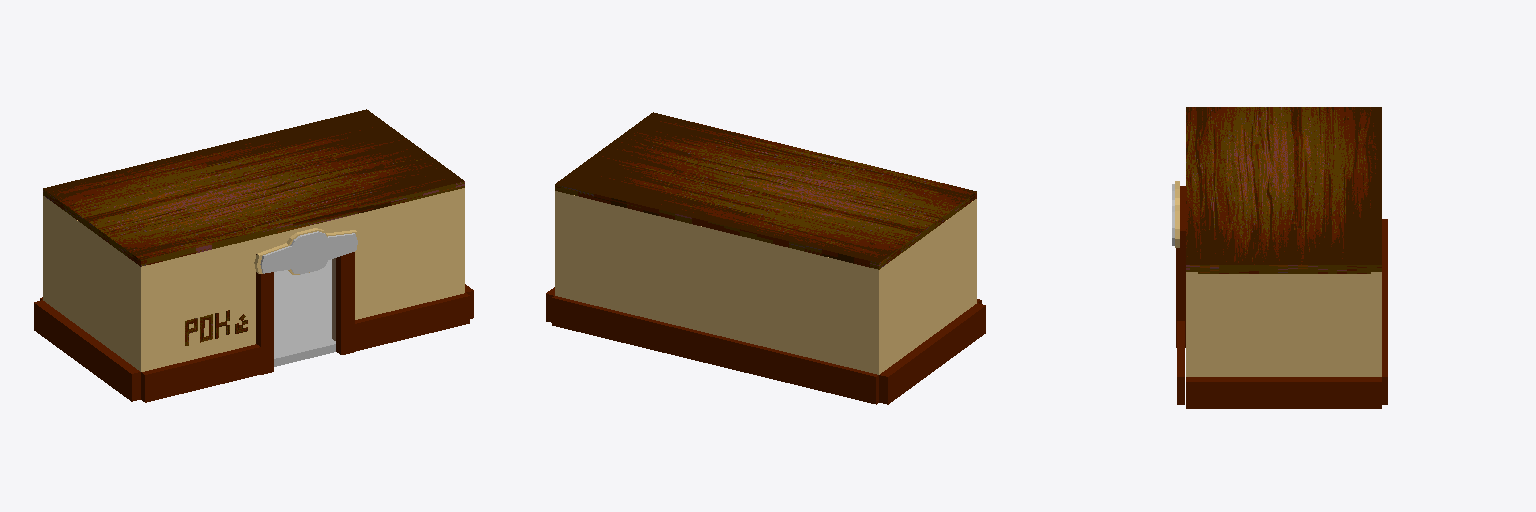
3 views of the same model, side by side, from view 1: azimuth 30°, elevation 25°; view 2: azimuth 150°, elevation 25°; view 3: azimuth 270°, elevation 25° (orthographic).
Visible parts, largest first — view 1: Cube.000_Cube.030, Box001.001, Box003.002_Box003.003, Cube.029, Box003.003_Box003.008, Box002.007, Box002.003_Box002.008, Box001.002_Box001.003, Cube.012_Cube.001, Box002.005, Cube.002; view 2: Box002.005, Cube.000_Cube.030, Box002.006, Box003.002_Box003.003, Box003.003_Box003.008, Box001.001; view 3: Cube.000_Cube.030, Box003.000_Box003.006, Box003.007, Box001.001, Box001.002_Box001.003, Box002.005, Box002.006, Box002.003_Box002.008.
Part boxes in pixels (left/top/right/bottom): Cube.000_Cube.030: left=43, top=109, right=464, bottom=266; Box001.001: left=135, top=188, right=464, bottom=371; Box003.002_Box003.003: left=49, top=200, right=134, bottom=366; Cube.029: left=274, top=259, right=335, bottom=366; Box003.003_Box003.008: left=34, top=300, right=140, bottom=401; Box002.007: left=141, top=344, right=260, bottom=402; Box002.003_Box002.008: left=355, top=293, right=469, bottom=351; Box001.002_Box001.003: left=256, top=252, right=354, bottom=374; Cube.012_Cube.001: left=260, top=231, right=357, bottom=274; Box002.005: left=43, top=196, right=48, bottom=303; Cube.002: left=254, top=228, right=359, bottom=274; Box002.005: left=555, top=191, right=884, bottom=374; Cube.000_Cube.030: left=555, top=112, right=976, bottom=269; Box002.006: left=552, top=296, right=878, bottom=404; Box003.002_Box003.003: left=885, top=203, right=970, bottom=369; Box003.003_Box003.008: left=879, top=303, right=985, bottom=404; Box001.001: left=971, top=199, right=976, bottom=306; Cube.000_Cube.030: left=1186, top=107, right=1381, bottom=273; Box003.000_Box003.006: left=1198, top=274, right=1370, bottom=376; Box003.007: left=1186, top=377, right=1381, bottom=408; Box001.001: left=1186, top=272, right=1197, bottom=376; Box001.002_Box001.003: left=1176, top=186, right=1185, bottom=347; Box002.005: left=1371, top=272, right=1381, bottom=376; Box002.006: left=1382, top=219, right=1387, bottom=404; Box002.003_Box002.008: left=1177, top=321, right=1184, bottom=404.
Bounding box in the file's own units: 400 × 156 × 218.
7 materials, 1 textured.